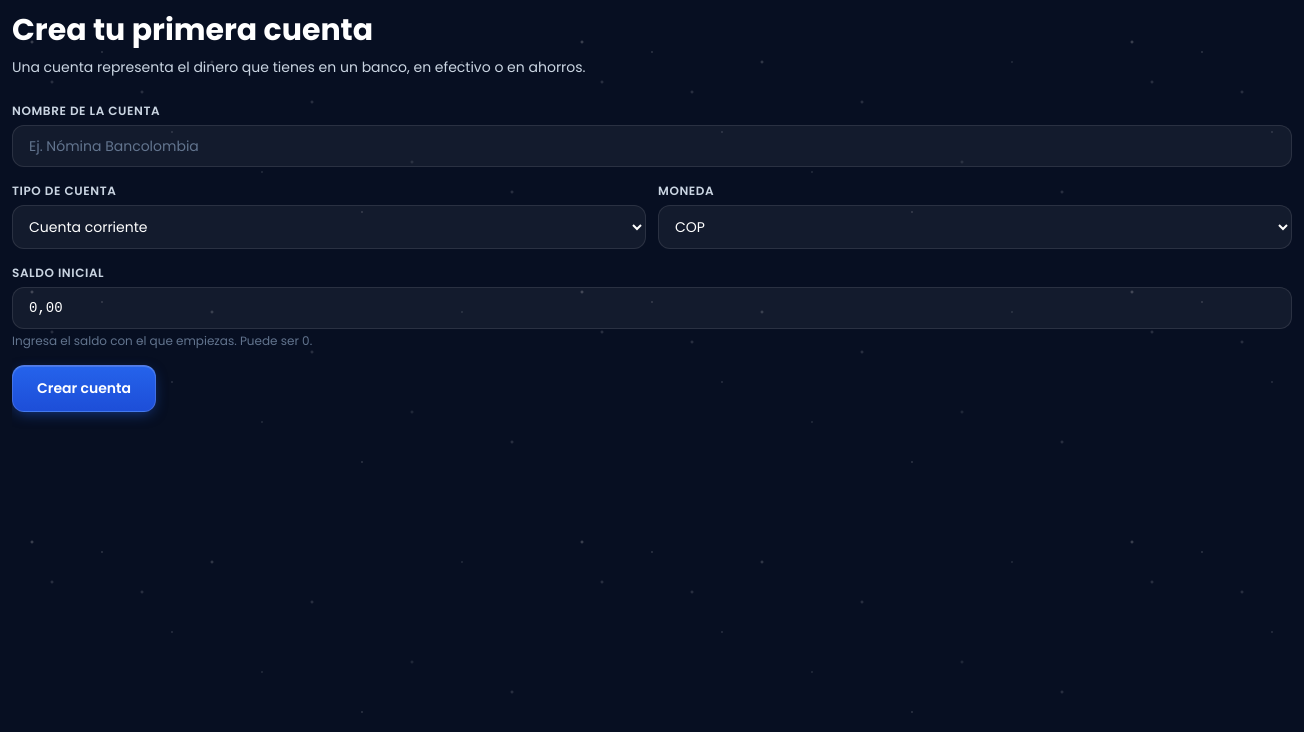
Test: StepFirstAccount › shows the server error alert when createBankAccount fails
Type "Mi Cuenta" into the field labelled "Nombre de la cuenta" at (652, 146), box x1=12 y1=125 x2=1292 y2=167
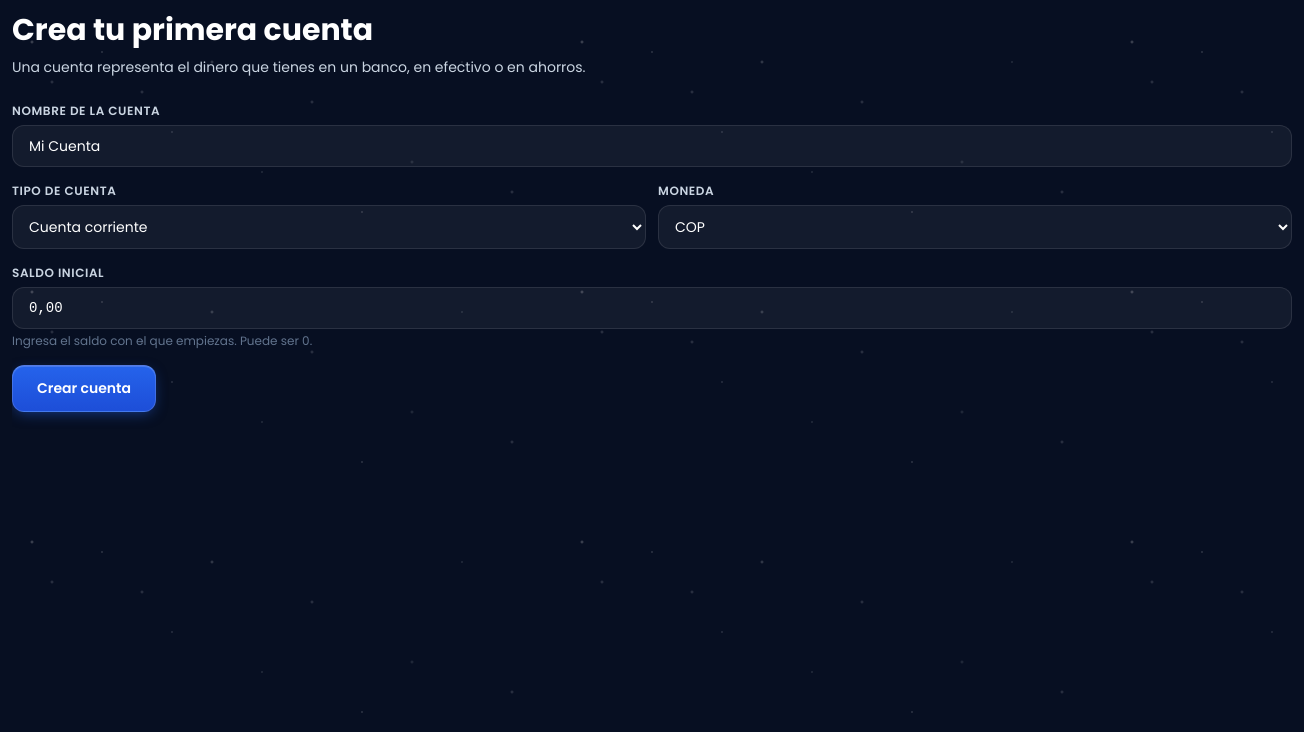
Click the button "Crear cuenta" at (84, 388), box x1=12 y1=365 x2=156 y2=412
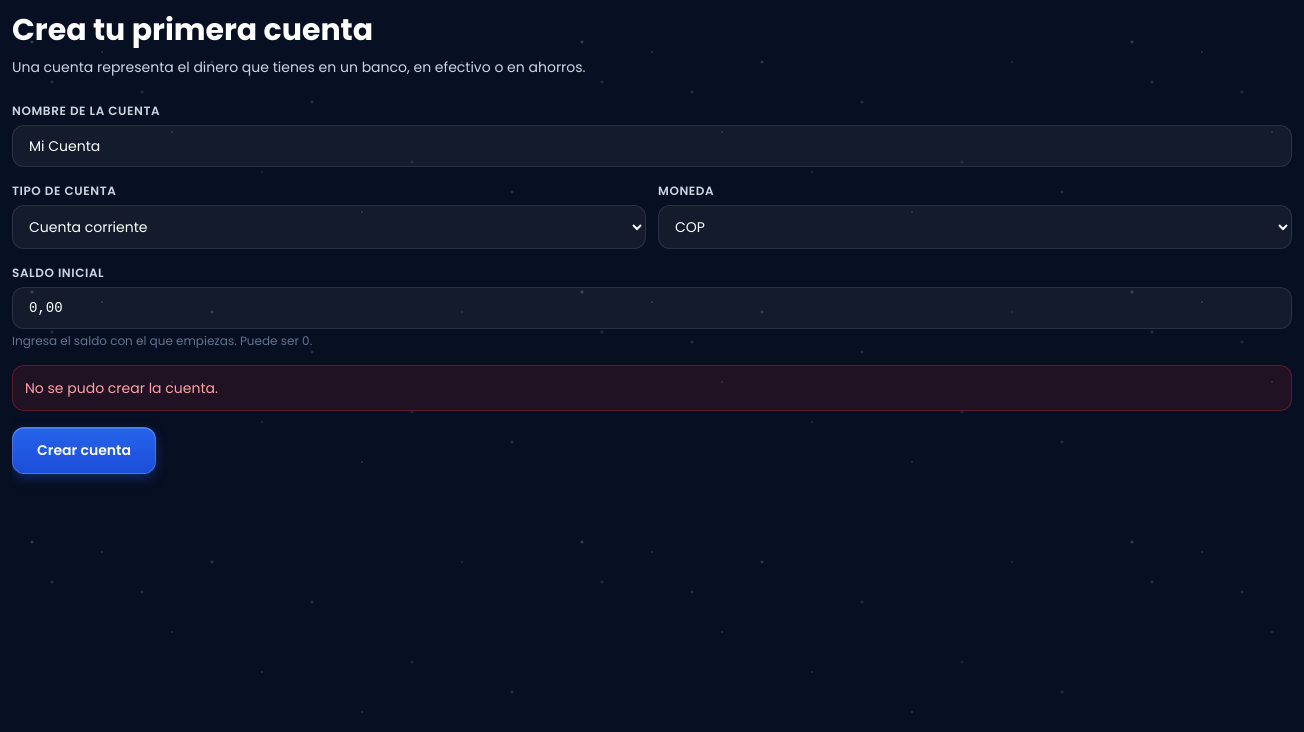
Expected: the message reads "No se pudo crear la cuenta.", x1=25 y1=378 x2=218 y2=398
